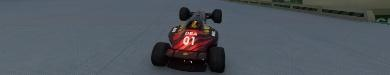Car: (150, 6, 225, 72)
grass: (0, 0, 389, 74)
obstacles-Borders: (221, 0, 389, 26)
